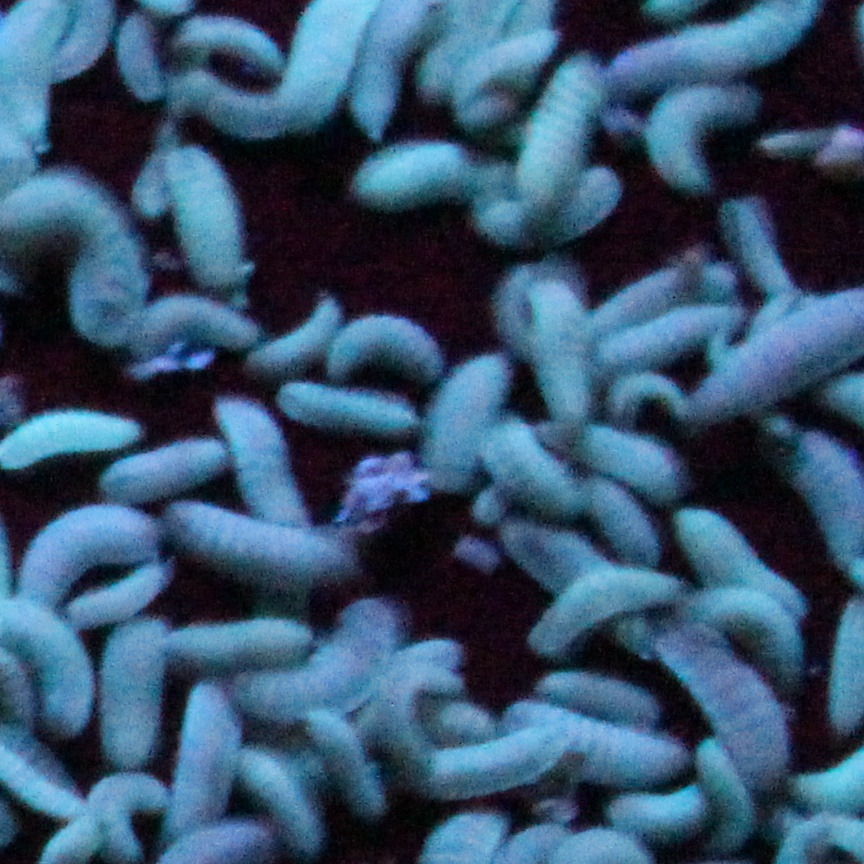larve: (23, 187, 133, 335), (181, 510, 355, 595), (152, 154, 259, 284), (639, 88, 760, 191), (515, 65, 607, 195), (637, 17, 809, 77), (278, 365, 407, 443), (27, 617, 96, 747), (541, 565, 674, 632), (103, 634, 164, 764), (29, 510, 157, 565), (533, 296, 589, 418), (177, 688, 229, 814), (318, 604, 386, 698), (430, 368, 480, 494), (534, 663, 647, 714), (681, 660, 764, 727), (344, 150, 466, 195), (179, 21, 279, 75), (436, 735, 554, 780), (683, 517, 776, 574), (143, 298, 257, 344), (111, 17, 169, 105), (727, 207, 790, 286), (593, 431, 683, 485), (177, 623, 297, 661), (101, 458, 213, 498), (479, 443, 560, 498), (56, 573, 166, 613), (249, 748, 309, 821), (716, 591, 794, 647), (363, 30, 403, 134), (616, 791, 704, 837), (231, 413, 274, 504), (339, 323, 430, 363), (333, 715, 371, 807), (421, 35, 480, 87), (606, 320, 683, 357), (596, 513, 657, 555)
